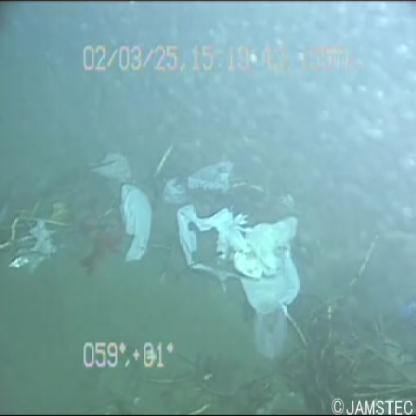Rác: (174, 183, 304, 327), (103, 165, 154, 265)
